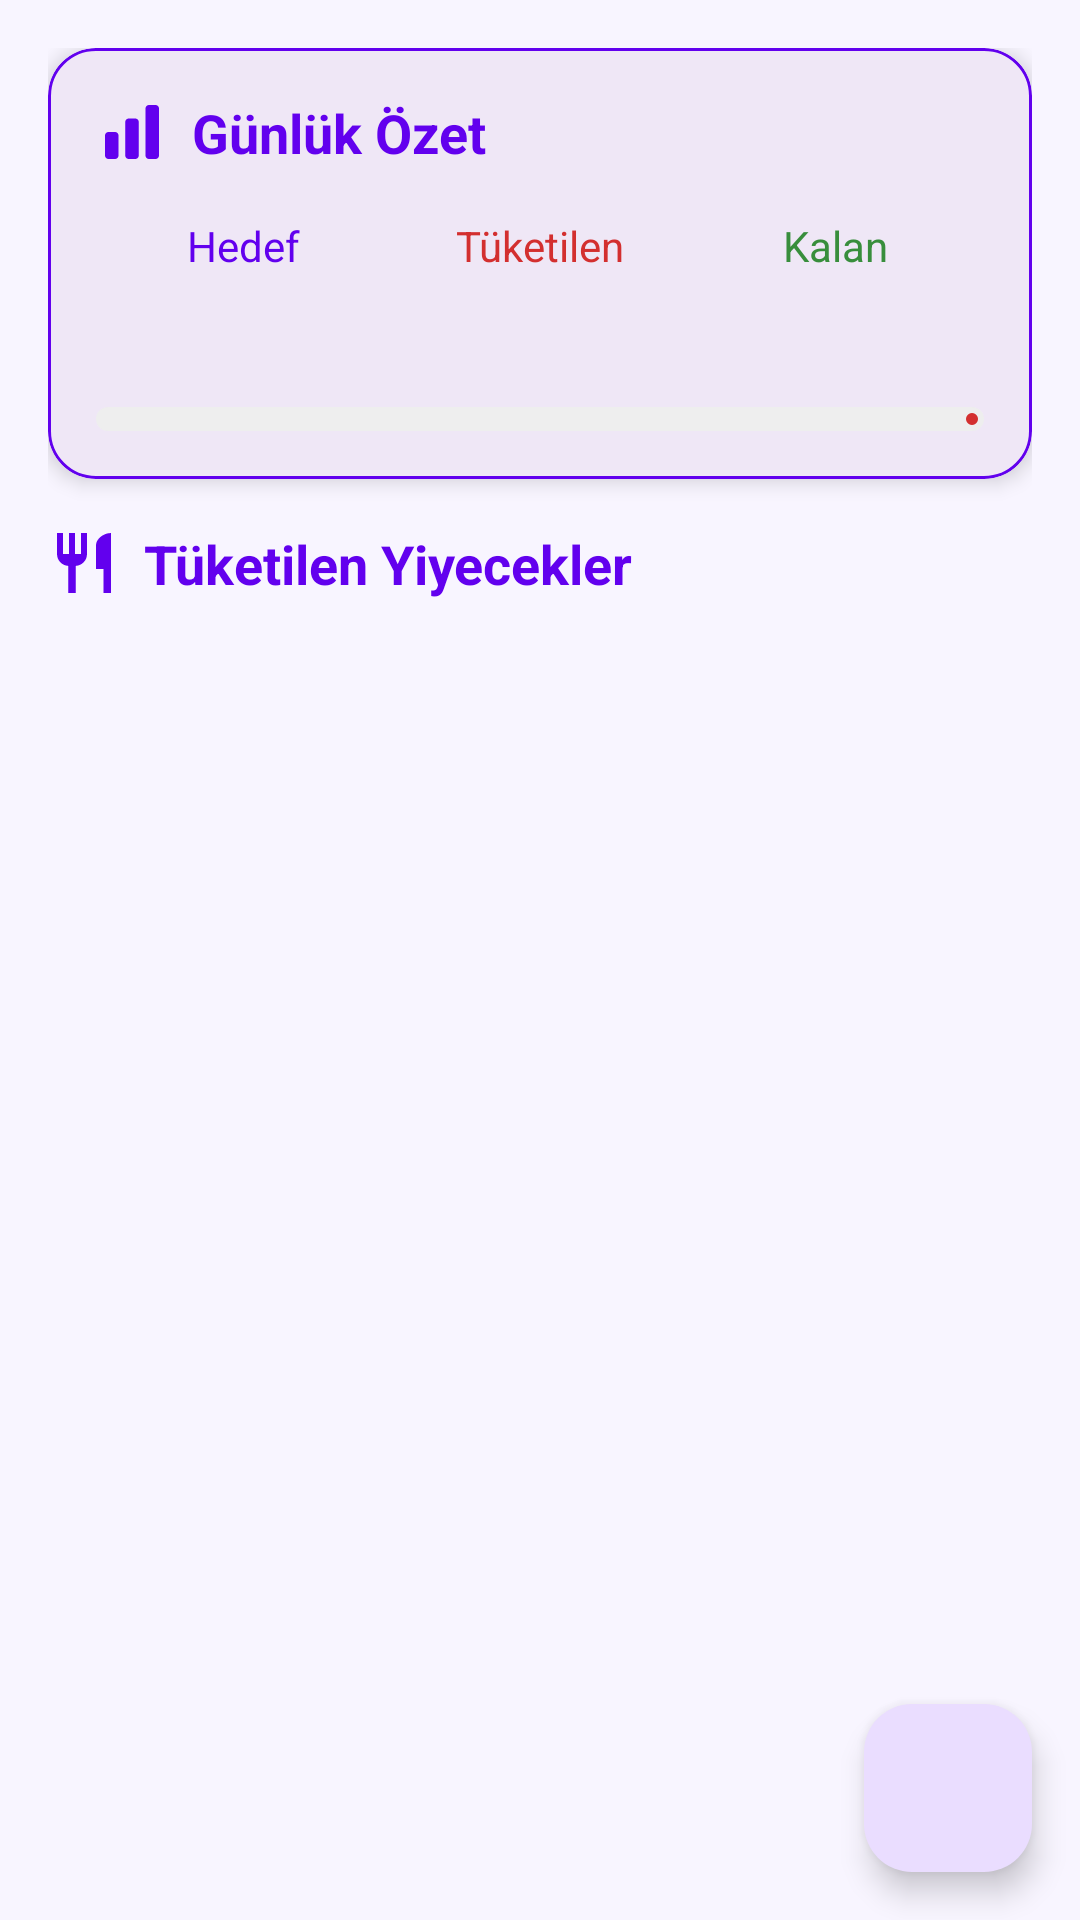

Icon bounding boxes for this 1080px×1920px phone screenshot, format (x1, y1, x2, y2):
chart: (105, 105, 159, 159)
food: (57, 533, 111, 593)
